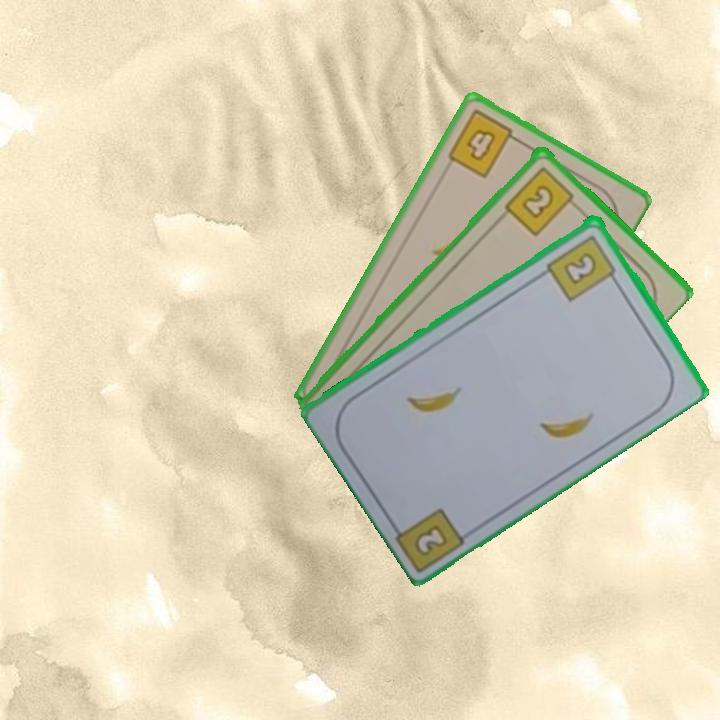2b: (501, 162, 582, 238), (543, 230, 621, 304), (410, 520, 451, 559)
4b: (443, 105, 524, 181)
